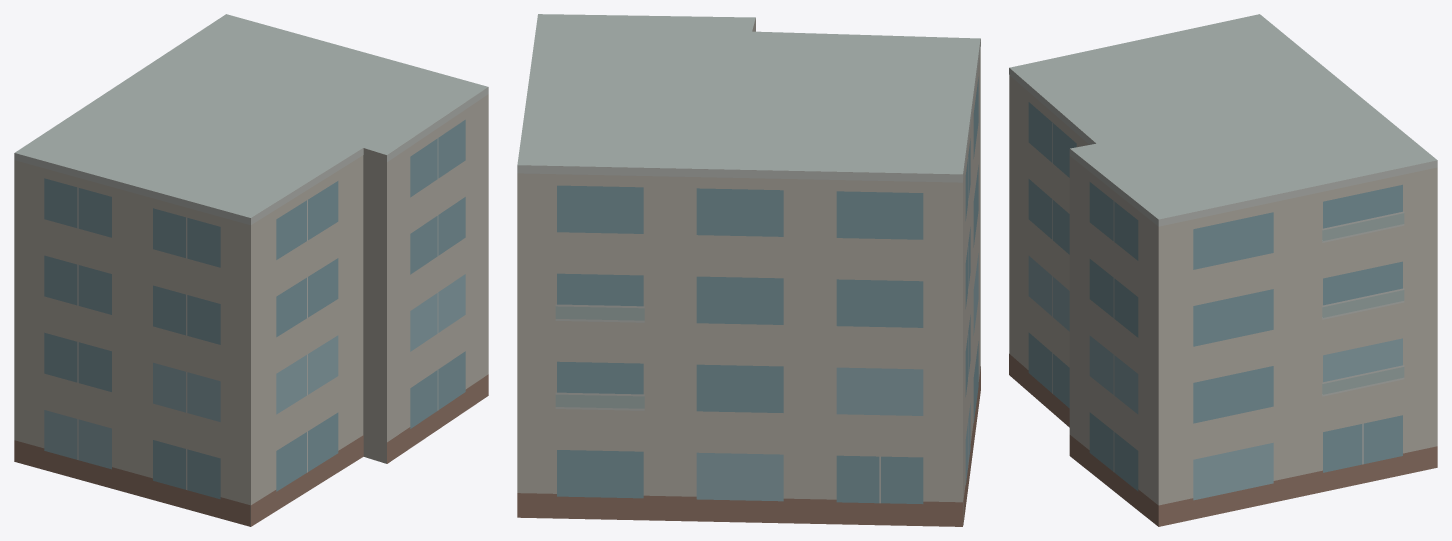
The model's file is survey-upis-32980519.glb.
The picture shows the model from 3 angles, left to right: view 1: azimuth 30°, elevation 25°; view 2: azimuth 150°, elevation 25°; view 3: azimuth 270°, elevation 25°; orthographic projection. The views are drawn at different scales.
Parts seen in each view (by area): view 1: survey-upis-32980519.tmp; view 2: survey-upis-32980519.tmp; view 3: survey-upis-32980519.tmp.
Part boxes in pixels (x1,y1,x2,y2): survey-upis-32980519.tmp: (14,14,488,526); survey-upis-32980519.tmp: (517,14,980,526); survey-upis-32980519.tmp: (1009,14,1437,526).
Size of the model in its own units: 15.07 by 10.5 by 13.28.
